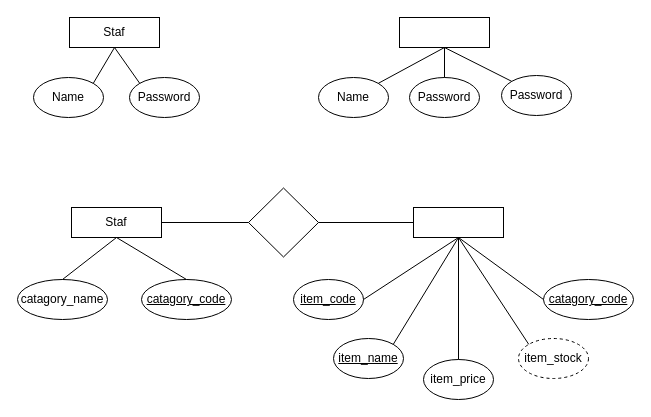
This 651x417 diagram has some shape labels left out. Here are the shapes that lost their labels. From the top down, the centre of each, then its label:
the point at 444,32: Admin
the point at 283,222: Has in
the point at 458,222: Catagory
